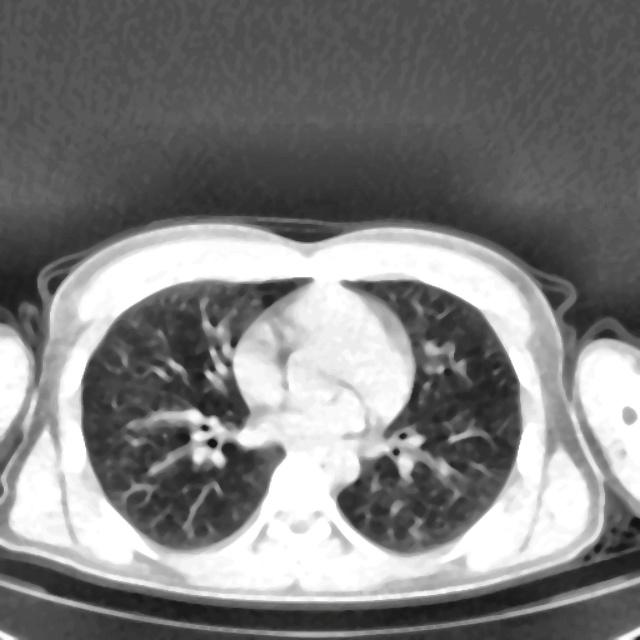covid: (0, 214, 638, 609)
